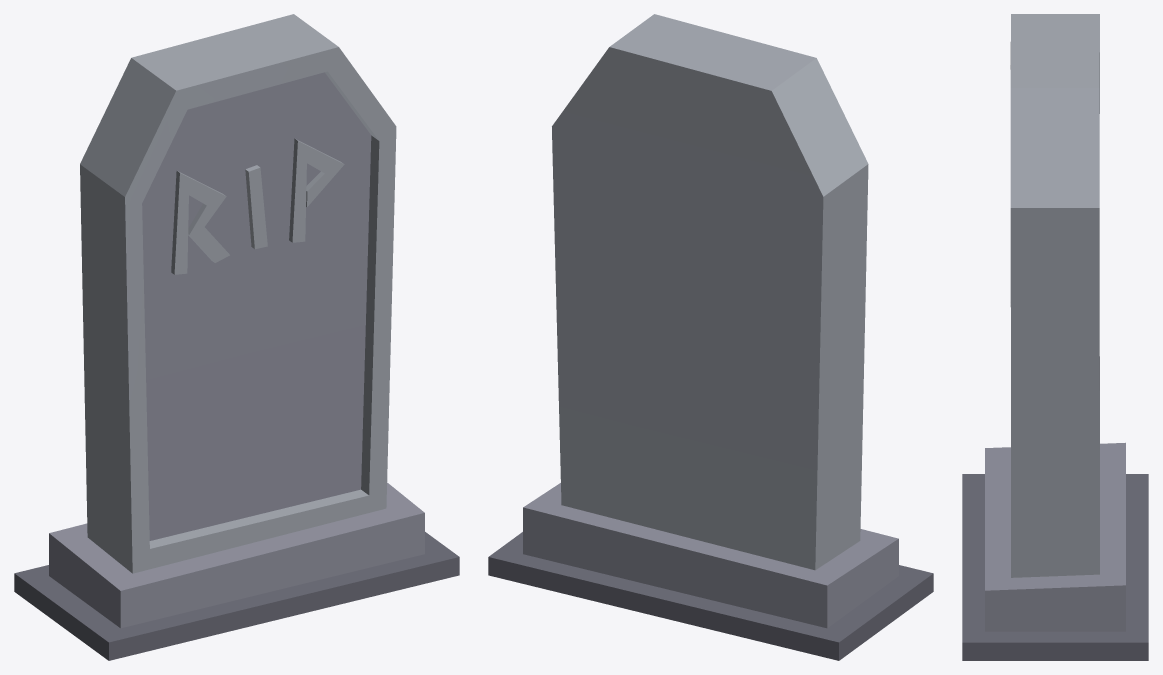
Rendered from HWN20_Grave_15.glb.
The picture shows the model from 3 angles, left to right: view 1: azimuth 30°, elevation 25°; view 2: azimuth 150°, elevation 25°; view 3: azimuth 270°, elevation 25°; orthographic projection.
Visible parts, largest first — view 1: HWN20_Grave_15; view 2: HWN20_Grave_15; view 3: HWN20_Grave_15.
Part boxes in pixels (left/top/right/bottom): HWN20_Grave_15: left=14, top=14, right=459, bottom=660; HWN20_Grave_15: left=488, top=14, right=933, bottom=660; HWN20_Grave_15: left=962, top=14, right=1148, bottom=660.
Size of what is drawn, in the model's own units: 0.9895 by 1.44 by 0.4619.
Materials: 1 (1 with a texture image).
